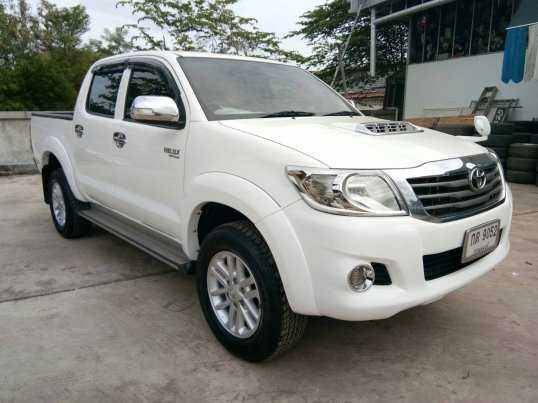pickup: (23, 46, 516, 369)
